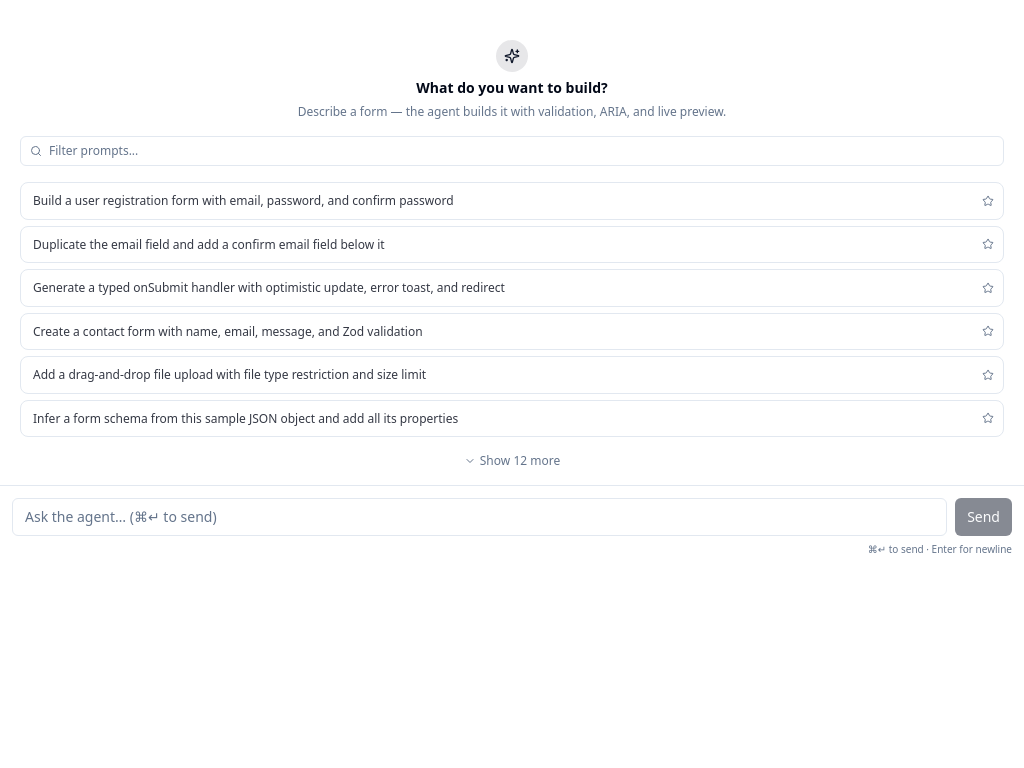
Hint prompt search filter › shows 'No matching prompts.' when filter matches nothing
Type "xyzzy_nonexistent_12345" into the field with placeholder "Filter prompts..." at (512, 151), box [20,136,1004,166]
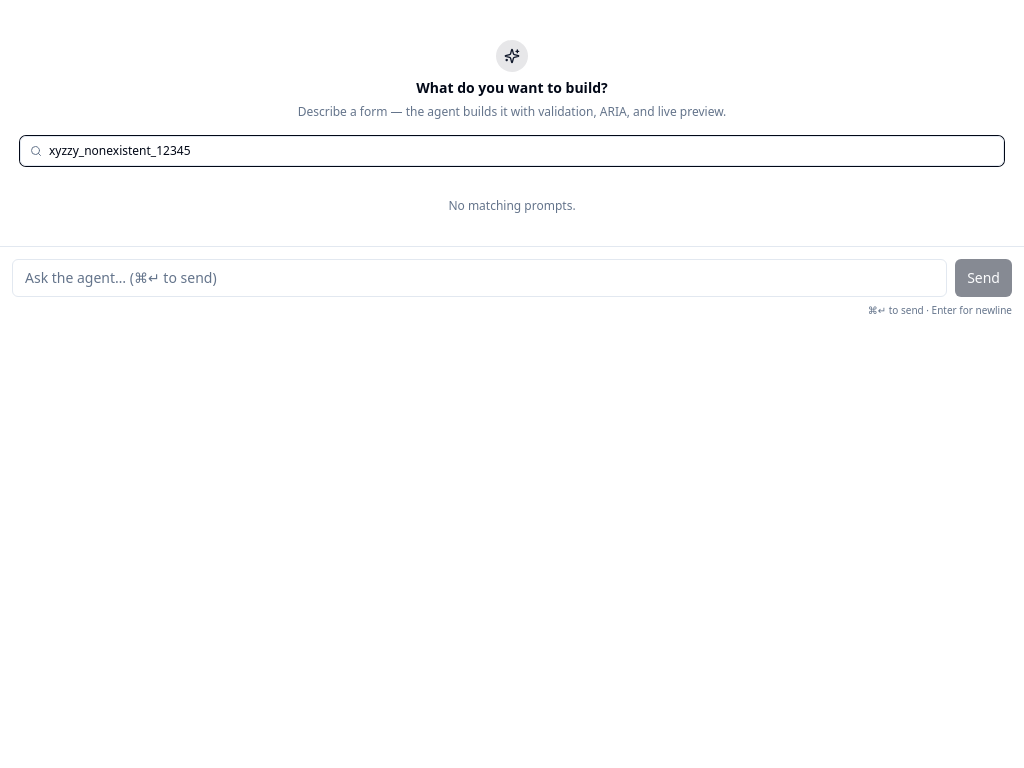
Expected: the text "No matching prompts." is shown, [448,197,576,214]
